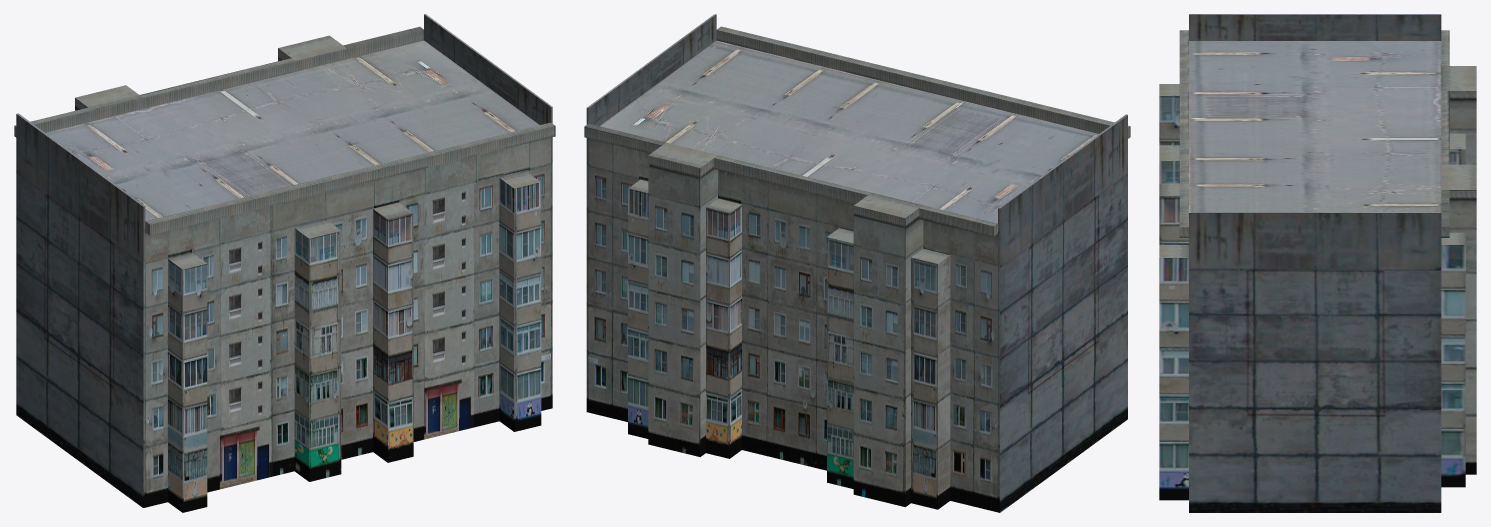
The model's file is cube.002_pionerskaya_4.001_0_lev2.glb.
3 renders of one model, left to right at view 1: azimuth 30°, elevation 25°; view 2: azimuth 150°, elevation 25°; view 3: azimuth 270°, elevation 25°, orthographic.
Parts seen in each view (by area): view 1: cube.002_pionerskaya_4.001_0_lev2; view 2: cube.002_pionerskaya_4.001_0_lev2; view 3: cube.002_pionerskaya_4.001_0_lev2.
Part boxes in pixels (x1,y1,x2,y2): cube.002_pionerskaya_4.001_0_lev2: (14,14,555,512); cube.002_pionerskaya_4.001_0_lev2: (584,14,1130,512); cube.002_pionerskaya_4.001_0_lev2: (1159,14,1476,512).
Size of the model in its own units: 20.86 by 14.68 by 14.05.
1 material, 1 textured.
